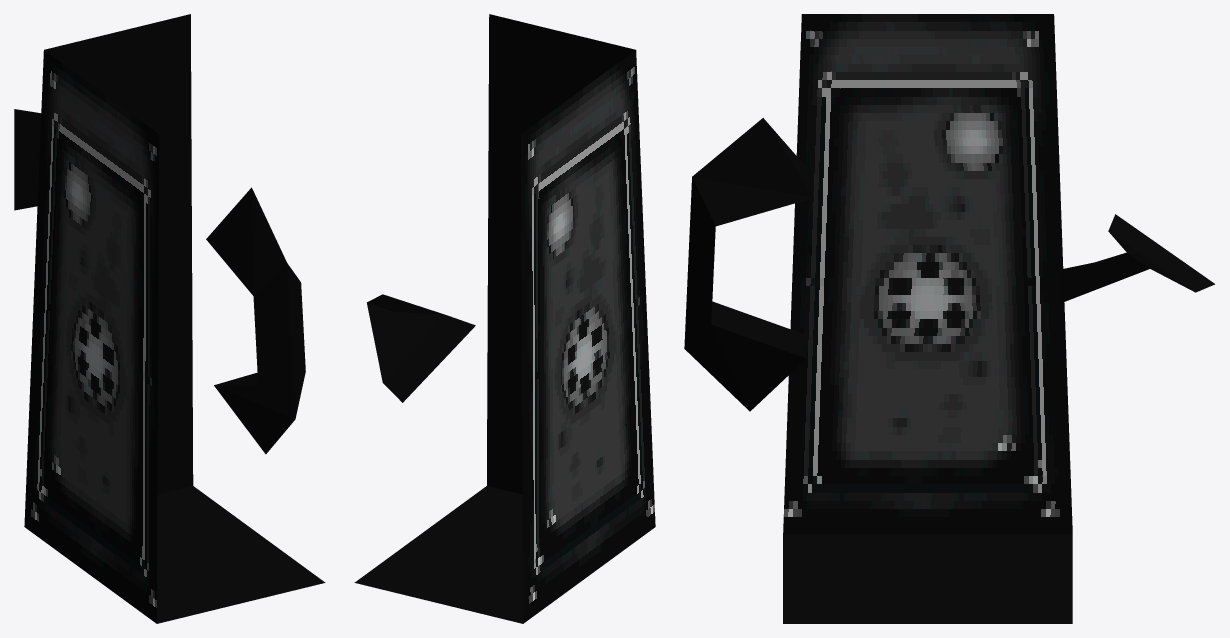
The model's file is TelefonFürWand_1602.glb.
The picture shows the model from 3 angles, left to right: view 1: azimuth 30°, elevation 25°; view 2: azimuth 150°, elevation 25°; view 3: azimuth 270°, elevation 25°; orthographic projection. The views are drawn at different scales.
Visible parts, largest first — view 1: polySurfaceShape2, polySurfaceShape3, pCylinderShape69, pCylinderShape85; view 2: polySurfaceShape2, polySurfaceShape3, pCylinderShape85; view 3: polySurfaceShape2, polySurfaceShape3, pCylinderShape69, pCylinderShape85.
Part boxes in pixels (x1=…): polySurfaceShape2: x1=24, y1=50, x2=159, y2=623; polySurfaceShape3: x1=44, y1=14, x2=325, y2=623; pCylinderShape69: x1=206, y1=187, x2=305, y2=454; pCylinderShape85: x1=14, y1=109, x2=41, y2=210; polySurfaceShape2: x1=520, y1=50, x2=655, y2=623; polySurfaceShape3: x1=354, y1=14, x2=635, y2=623; pCylinderShape85: x1=366, y1=294, x2=475, y2=402; polySurfaceShape2: x1=783, y1=14, x2=1072, y2=533; polySurfaceShape3: x1=783, y1=534, x2=1072, y2=623; pCylinderShape69: x1=684, y1=118, x2=813, y2=411; pCylinderShape85: x1=1062, y1=214, x2=1214, y2=302.
Bounding box in the file's own units: 0.0456 × 0.1242 × 0.1137.
4 materials, 1 textured.
